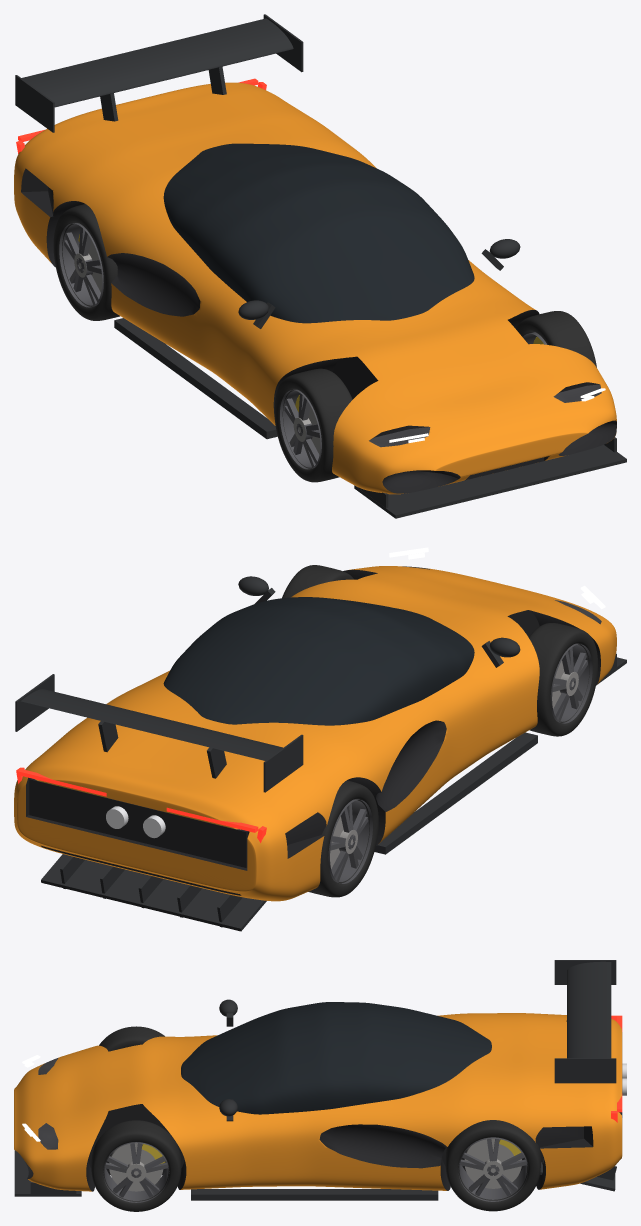
File: supercar.glb
The picture shows the model from 3 angles, top to bottom: view 1: azimuth 30°, elevation 25°; view 2: azimuth 150°, elevation 25°; view 3: azimuth 270°, elevation 25°; orthographic projection. The views are drawn at different scales.
Parts seen in each view (by area): view 1: Body, Cabin, RearWing, Wheel_FL, Splitter, Wheel_RL, SideSkirts, WingSupports, Wheel_FR, Mirrors; view 2: Body, Cabin, RearGrille, Diffuser, Wheel_FL, Wheel_RL, RearWing, SideSkirts, WingSupports, Mirrors, Taillights, Wheel_FR (+2 smaller); view 3: Body, Cabin, Wheel_RR, Wheel_FR, RearWing, SideSkirts, WingSupports, Splitter, Wheel_FL, Mirrors, Diffuser.
Part boxes in pixels (x1,y1,x2,y2): Body: [14, 82, 616, 494]; Cabin: [163, 143, 474, 323]; RearWing: [21, 18, 293, 107]; Wheel_FL: [274, 368, 352, 482]; Splitter: [354, 437, 626, 518]; Wheel_RL: [53, 204, 119, 320]; SideSkirts: [114, 318, 277, 439]; WingSupports: [15, 14, 303, 132]; Wheel_FR: [516, 311, 596, 367]; Mirrors: [238, 239, 520, 328]; Body: [14, 566, 616, 901]; Cabin: [163, 597, 474, 725]; RearGrille: [29, 778, 247, 867]; Diffuser: [41, 854, 266, 931]; Wheel_FL: [528, 623, 597, 736]; Wheel_RL: [308, 780, 378, 897]; RearWing: [21, 689, 282, 760]; SideSkirts: [374, 732, 537, 854]; WingSupports: [15, 674, 303, 792]; Mirrors: [238, 576, 520, 667]; Taillights: [16, 767, 266, 842]; Wheel_FR: [282, 565, 353, 598]; Body: [14, 1013, 622, 1191]; Cabin: [181, 1002, 491, 1114]; Wheel_RR: [445, 1120, 540, 1211]; Wheel_FR: [91, 1120, 181, 1211]; RearWing: [567, 961, 611, 1058]; SideSkirts: [191, 1189, 438, 1200]; WingSupports: [554, 960, 616, 1083]; Splitter: [14, 1150, 81, 1196]; Wheel_FL: [99, 1026, 164, 1051]; Mirrors: [219, 999, 237, 1121]; Diffuser: [540, 1157, 616, 1191].
Bounding box in the file's own units: 1.96 × 1.24 × 4.59.
